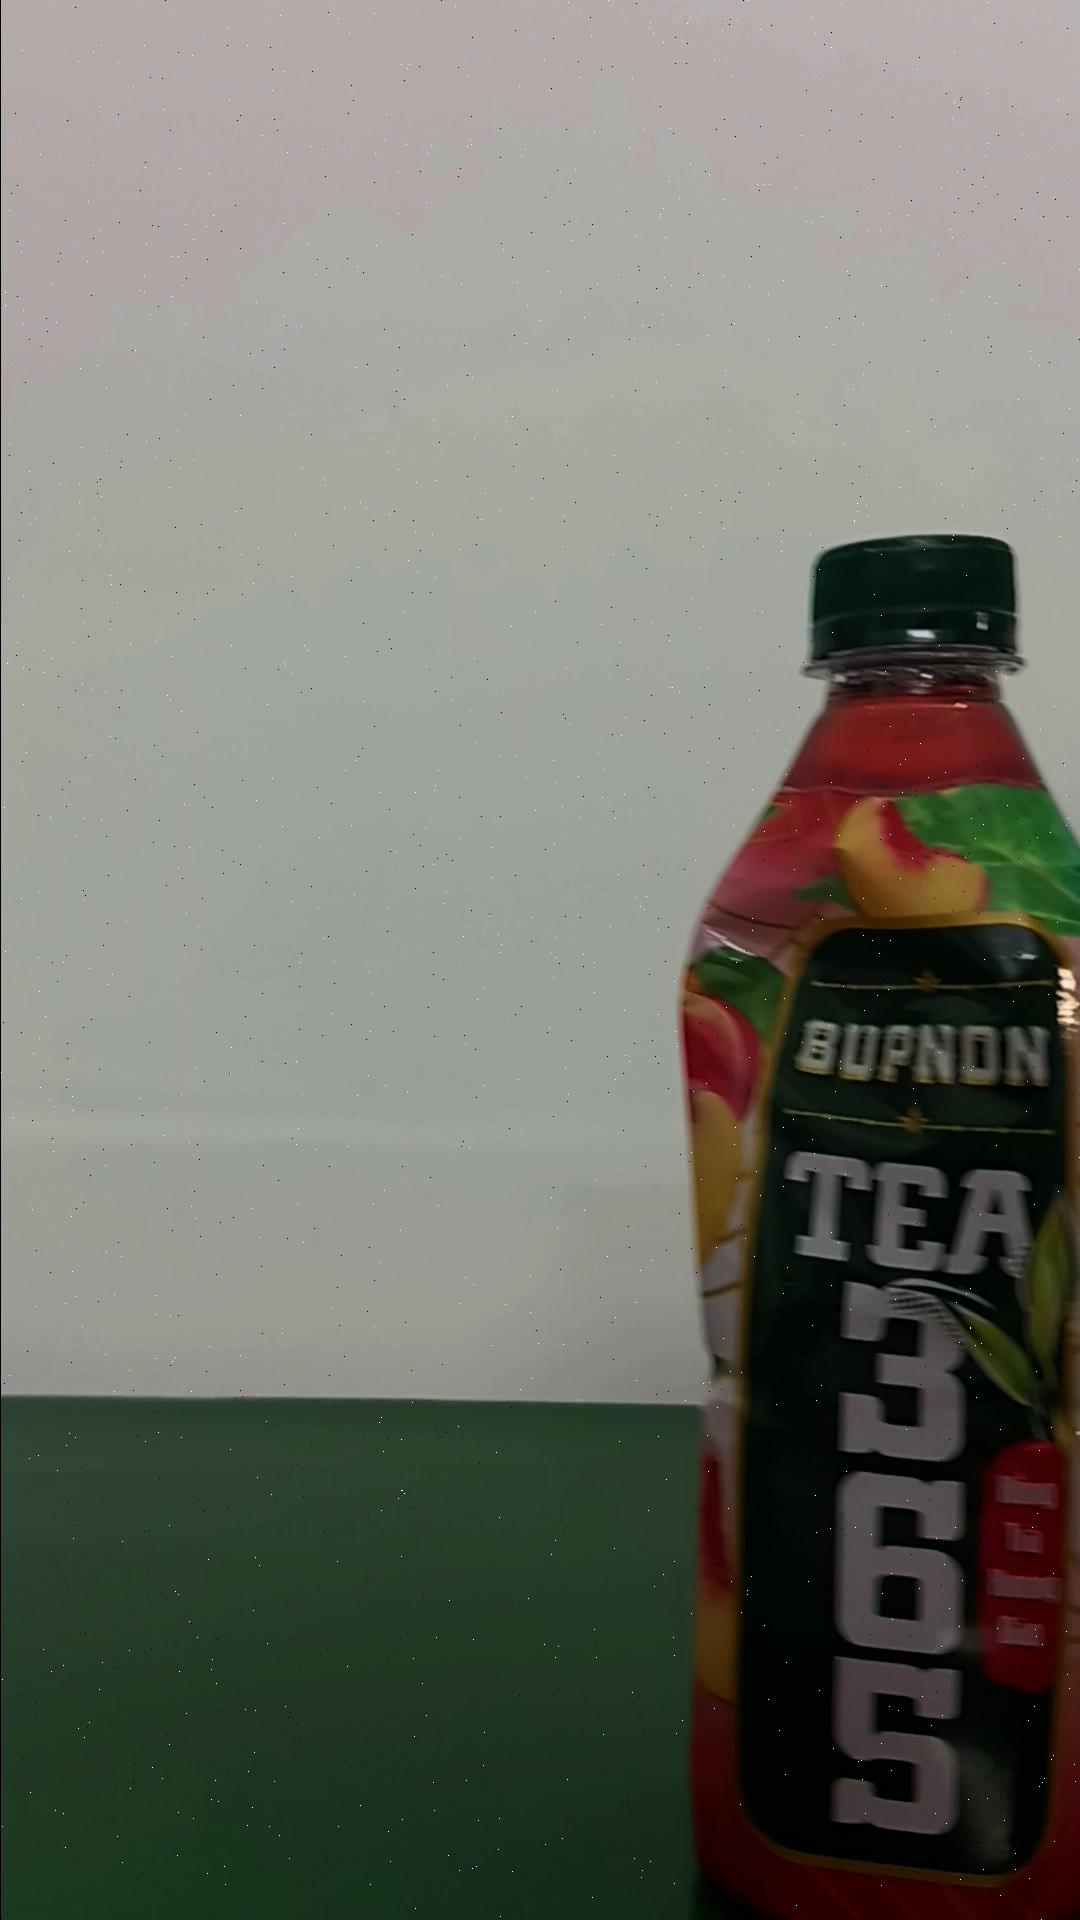loi meo sp: (676, 531, 1077, 1913)
